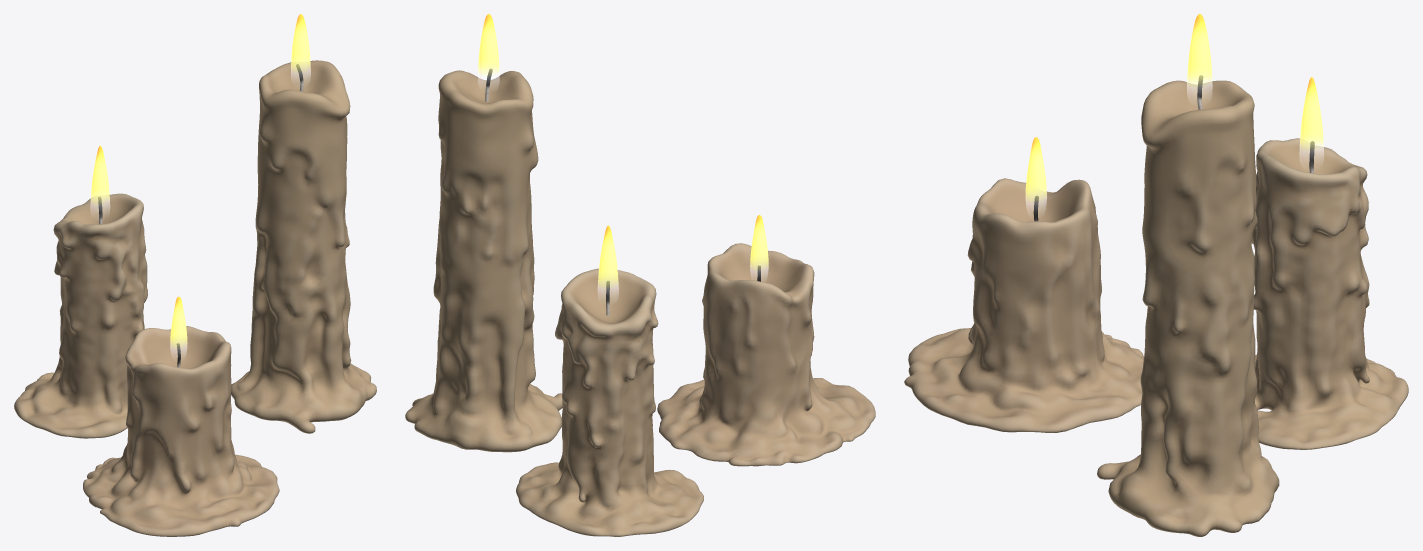
Rendered from candles_set.glb.
3 renders of one model, left to right at view 1: azimuth 30°, elevation 25°; view 2: azimuth 150°, elevation 25°; view 3: azimuth 270°, elevation 25°, orthographic. The views are drawn at different scales.
Visible parts, largest first — view 1: candle_1_0, candle_3_4, candle_2_2, Flame_1_8, Flame_2_7, Flame_3_6; view 2: candle_1_0, candle_3_4, candle_2_2, Flame_1_8, Flame_2_7, Flame_3_6; view 3: candle_1_0, candle_3_4, candle_2_2, Flame_1_8, Flame_2_7, Flame_3_6.
Boxes of the visible parts, x1,y1,x2,y2 form: candle_1_0: (231,60,376,433); candle_3_4: (83,326,279,536); candle_2_2: (14,193,147,438); Flame_1_8: (291,14,310,82); Flame_2_7: (90,145,109,214); Flame_3_6: (170,296,187,356); candle_1_0: (405,70,562,452); candle_3_4: (657,243,875,466); candle_2_2: (516,268,703,536); Flame_1_8: (478,14,499,87); Flame_2_7: (597,225,618,299); Flame_3_6: (750,215,768,279); candle_1_0: (1097,80,1279,536); candle_3_4: (904,178,1143,432); candle_2_2: (1251,138,1408,449); Flame_1_8: (1187,14,1212,99); Flame_2_7: (1299,77,1323,163); Flame_3_6: (1025,137,1046,213).
Bounding box in the file's own units: 0.2037 × 0.2194 × 0.2083.
Materials: 4 (4 with a texture image).
